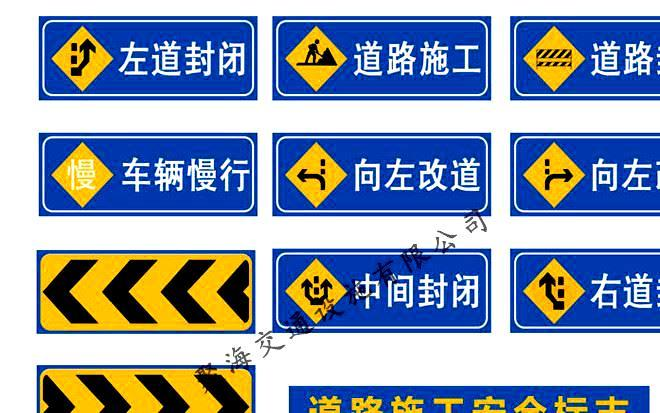sign: (275, 251, 487, 332), (42, 17, 256, 97), (38, 252, 253, 331), (40, 135, 255, 212), (277, 20, 489, 98), (274, 136, 487, 213), (514, 134, 660, 214), (514, 18, 658, 95), (512, 254, 657, 330), (39, 370, 253, 413)
